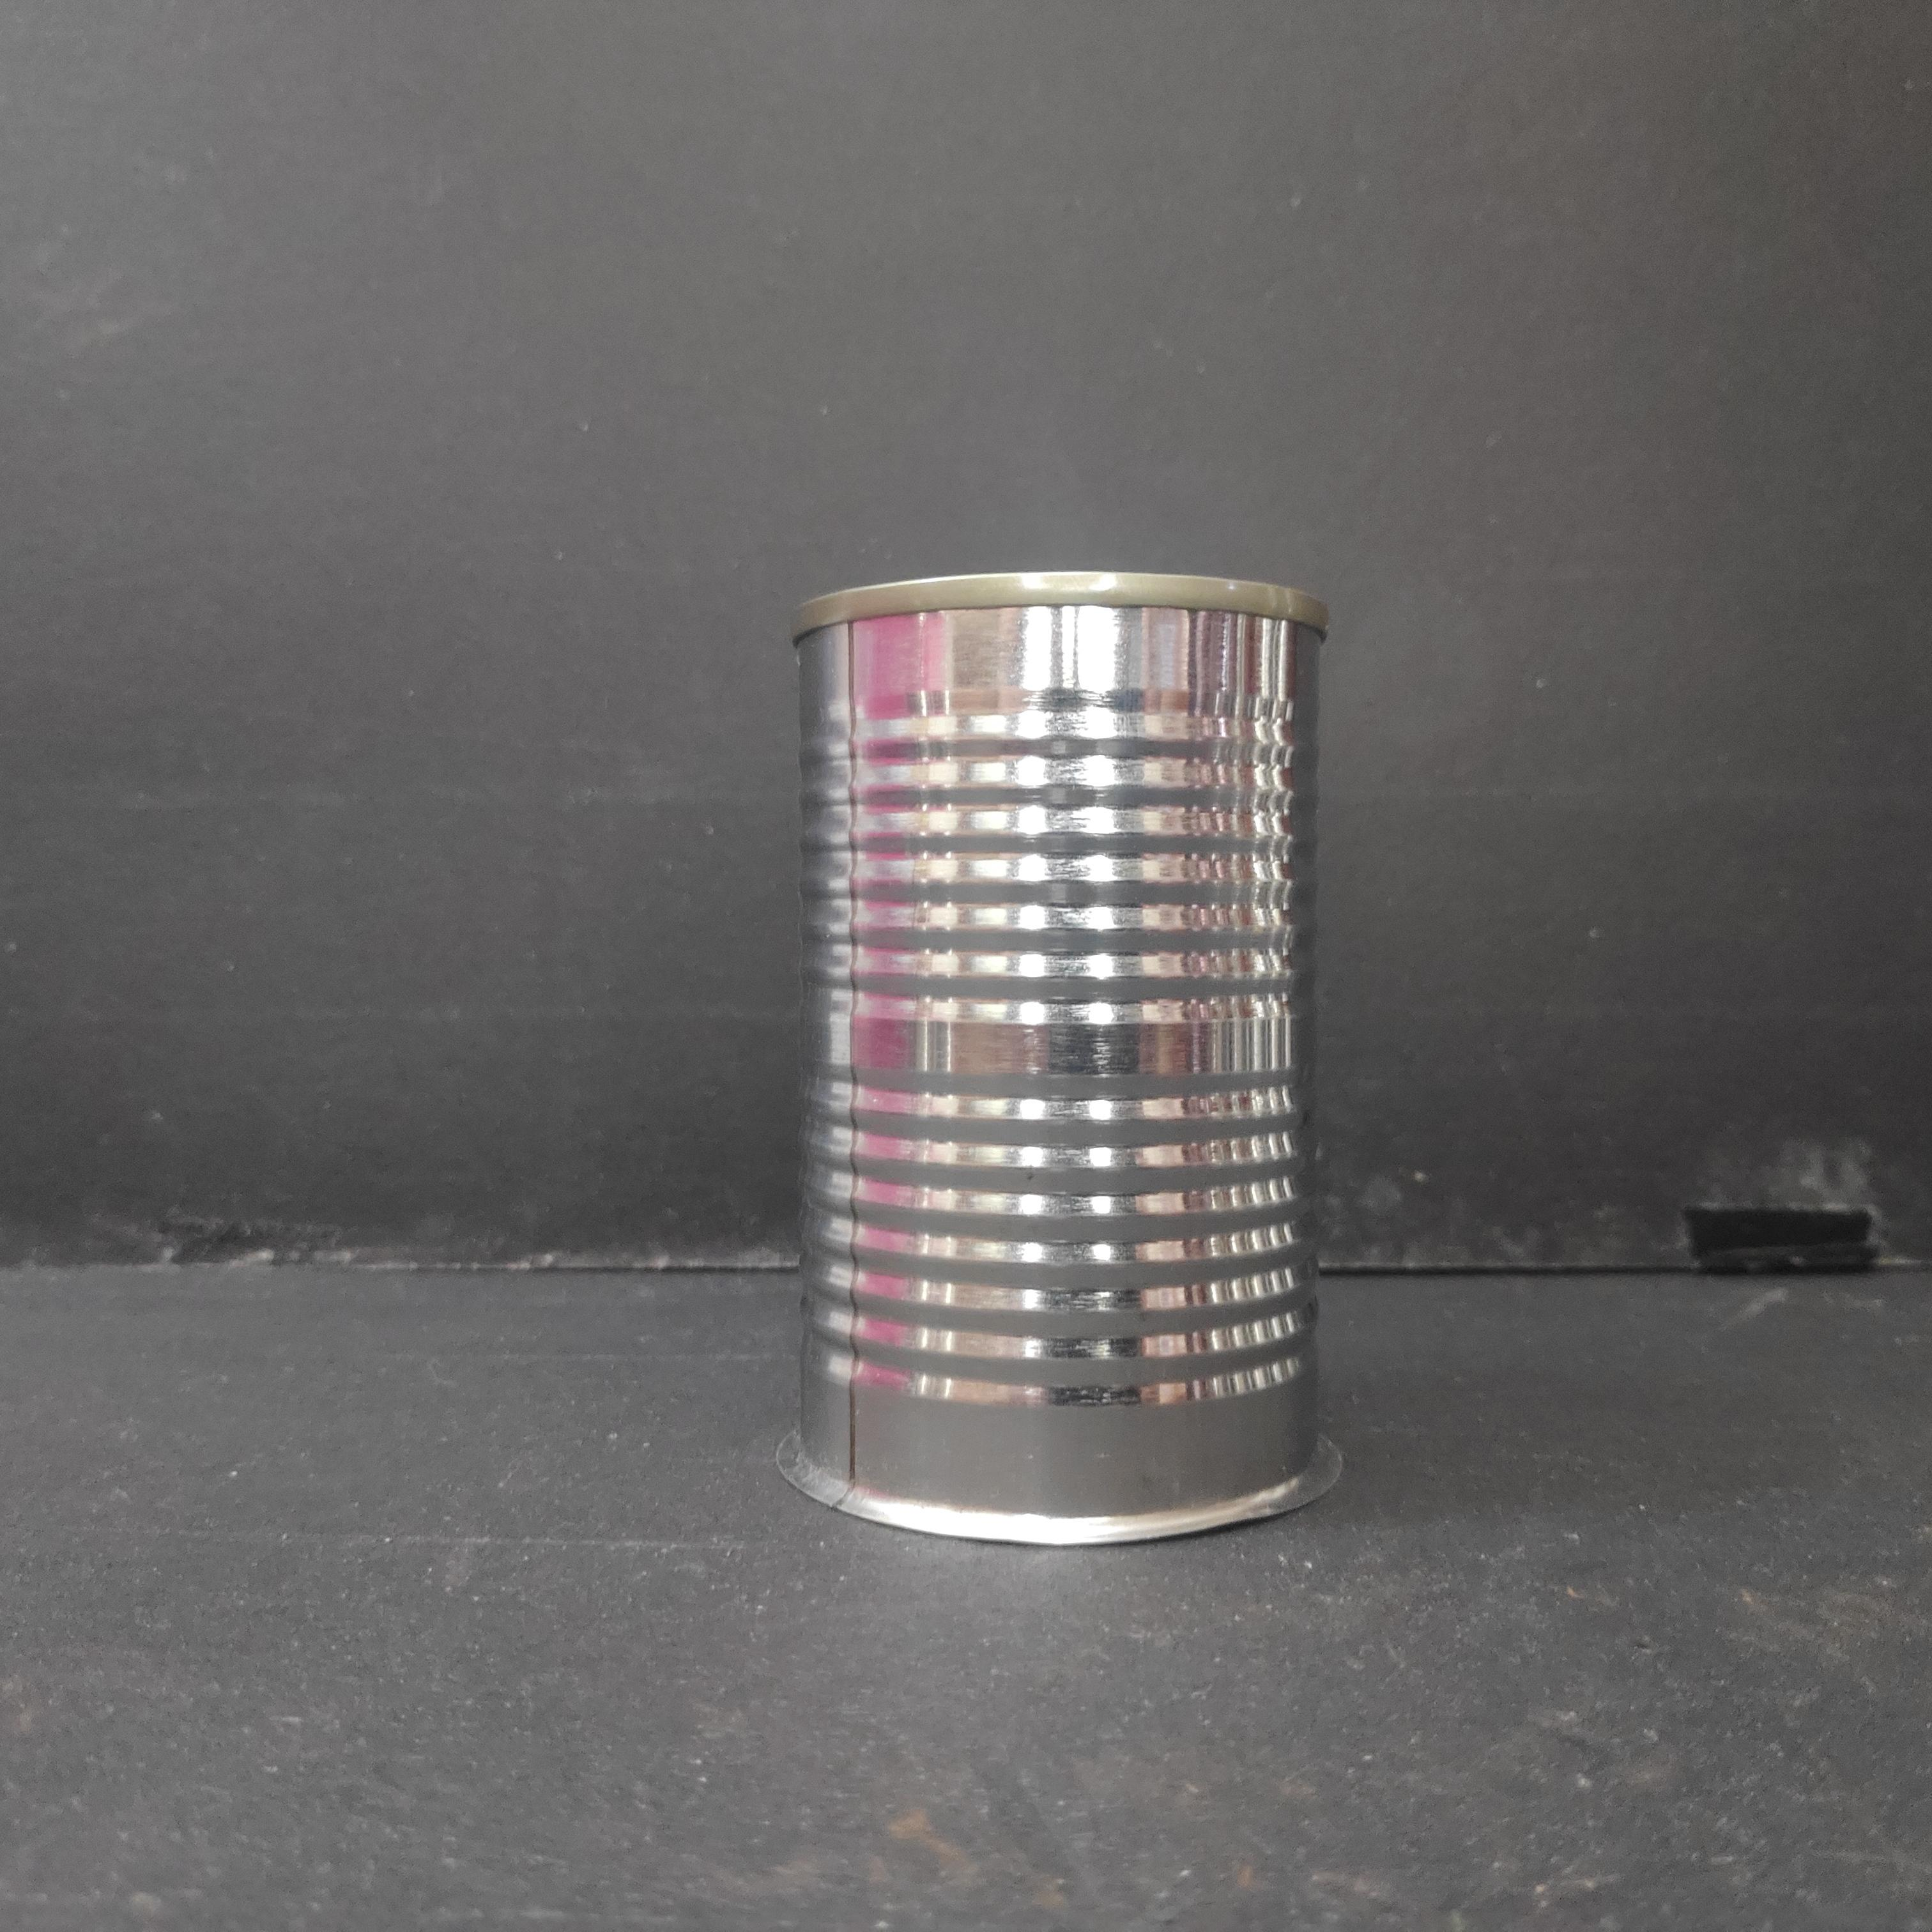No defect: (774, 569, 1347, 1550)
